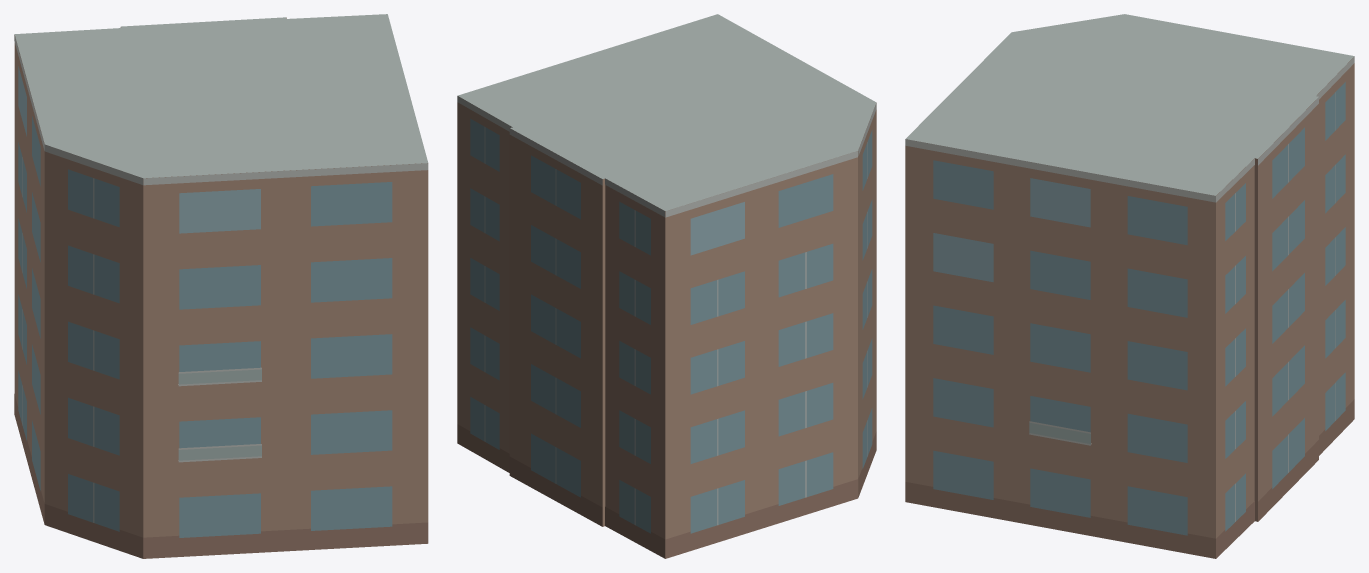
The model's file is survey-upis-32797654.glb.
3 views of the same model, side by side, from view 1: azimuth 30°, elevation 25°; view 2: azimuth 150°, elevation 25°; view 3: azimuth 270°, elevation 25° (orthographic). The views are drawn at different scales.
Visible parts, largest first — view 1: survey-upis-32797654.tmp; view 2: survey-upis-32797654.tmp; view 3: survey-upis-32797654.tmp.
Boxes of the visible parts, <box> form: survey-upis-32797654.tmp: <box>14,14,428,558</box>; survey-upis-32797654.tmp: <box>457,14,876,558</box>; survey-upis-32797654.tmp: <box>905,14,1354,558</box>.
Size of the model in its own units: 14.19 by 13.2 by 14.82.
